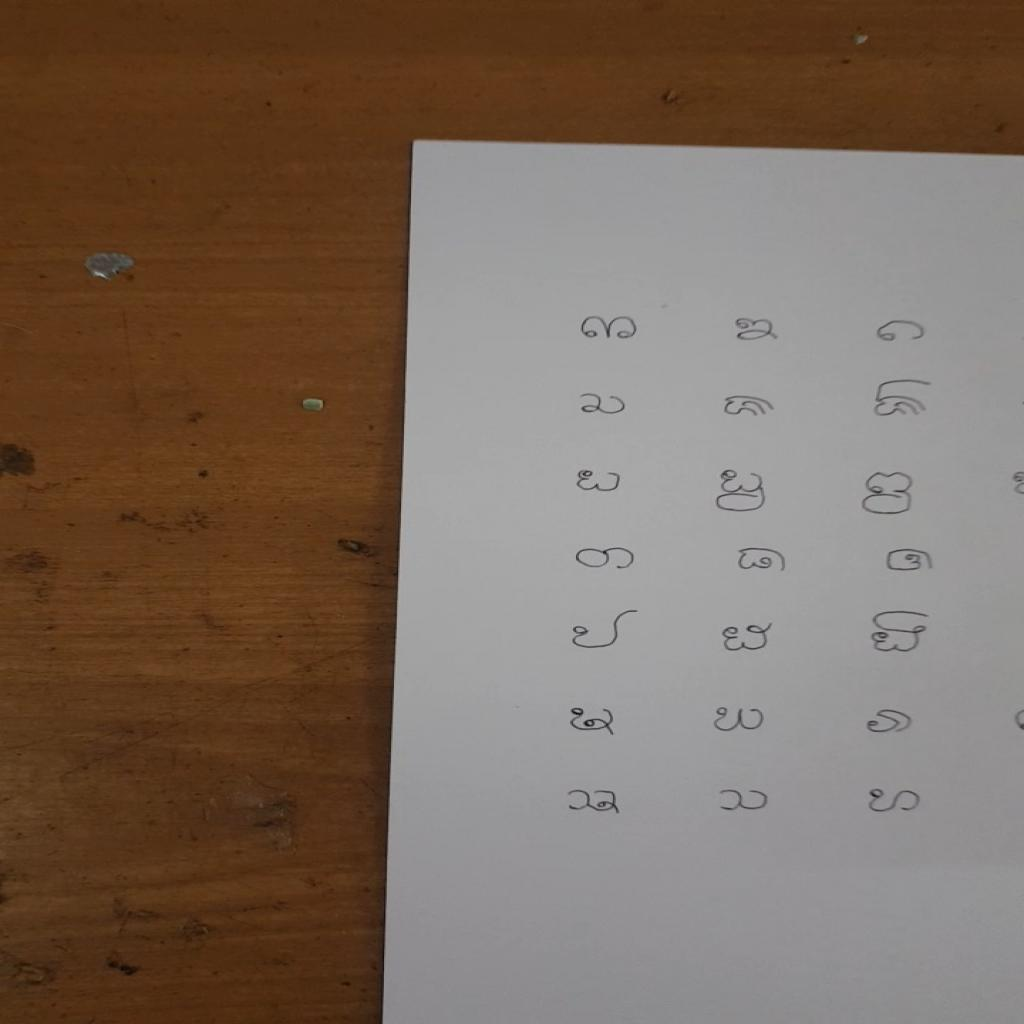LN001: (575, 315, 642, 344)
LN002: (731, 317, 785, 344)
LN007: (577, 392, 631, 419)
LN008: (721, 393, 781, 421)
LN009: (870, 378, 938, 421)
LN013: (573, 468, 629, 496)
LN014: (712, 468, 773, 516)
LN015: (858, 471, 919, 519)
LN019: (571, 545, 642, 574)
LN020: (733, 546, 793, 576)
LN021: (883, 547, 939, 575)
LN025: (569, 608, 644, 652)
LN026: (717, 620, 779, 656)
LN027: (868, 609, 934, 656)
LN031: (566, 706, 623, 740)
LN032: (710, 704, 772, 736)
LN033: (864, 708, 918, 737)
LN037: (562, 787, 628, 818)
LN038: (715, 787, 775, 815)
LN039: (866, 787, 927, 816)
